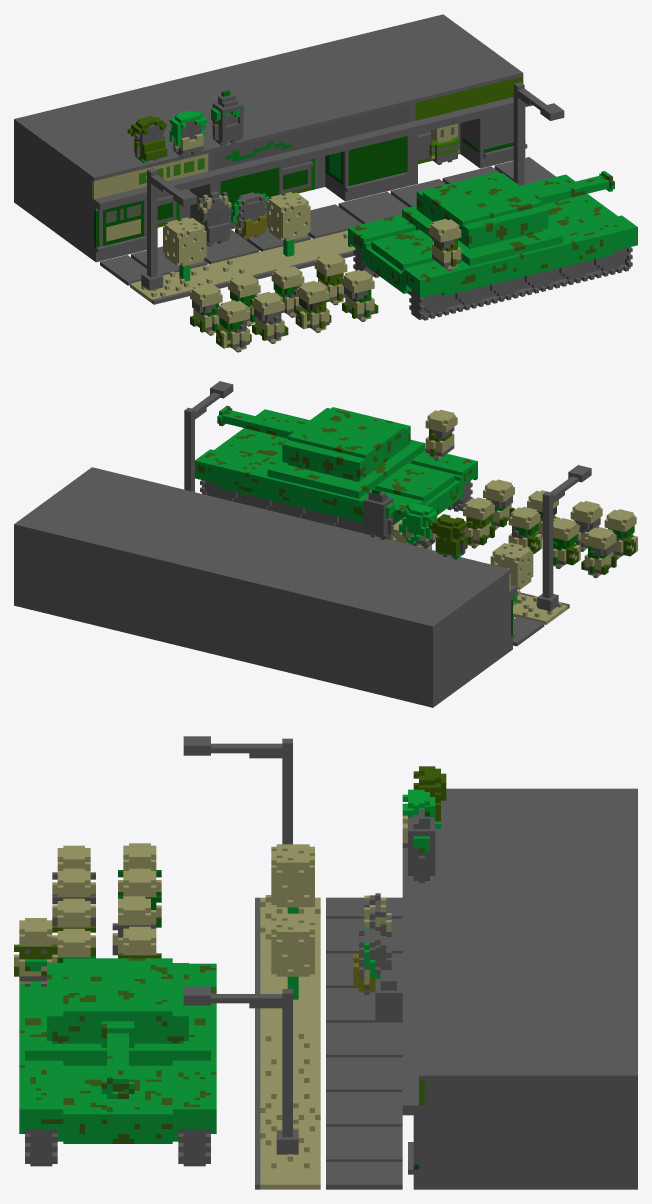
File: scene_army.obj
The picture shows the model from 3 angles, top to bottom: view 1: azimuth 30°, elevation 25°; view 2: azimuth 150°, elevation 25°; view 3: azimuth 270°, elevation 25°; orthographic projection. The views are drawn at different scales.
Size of the model in its own units: 124 by 37 by 114.
